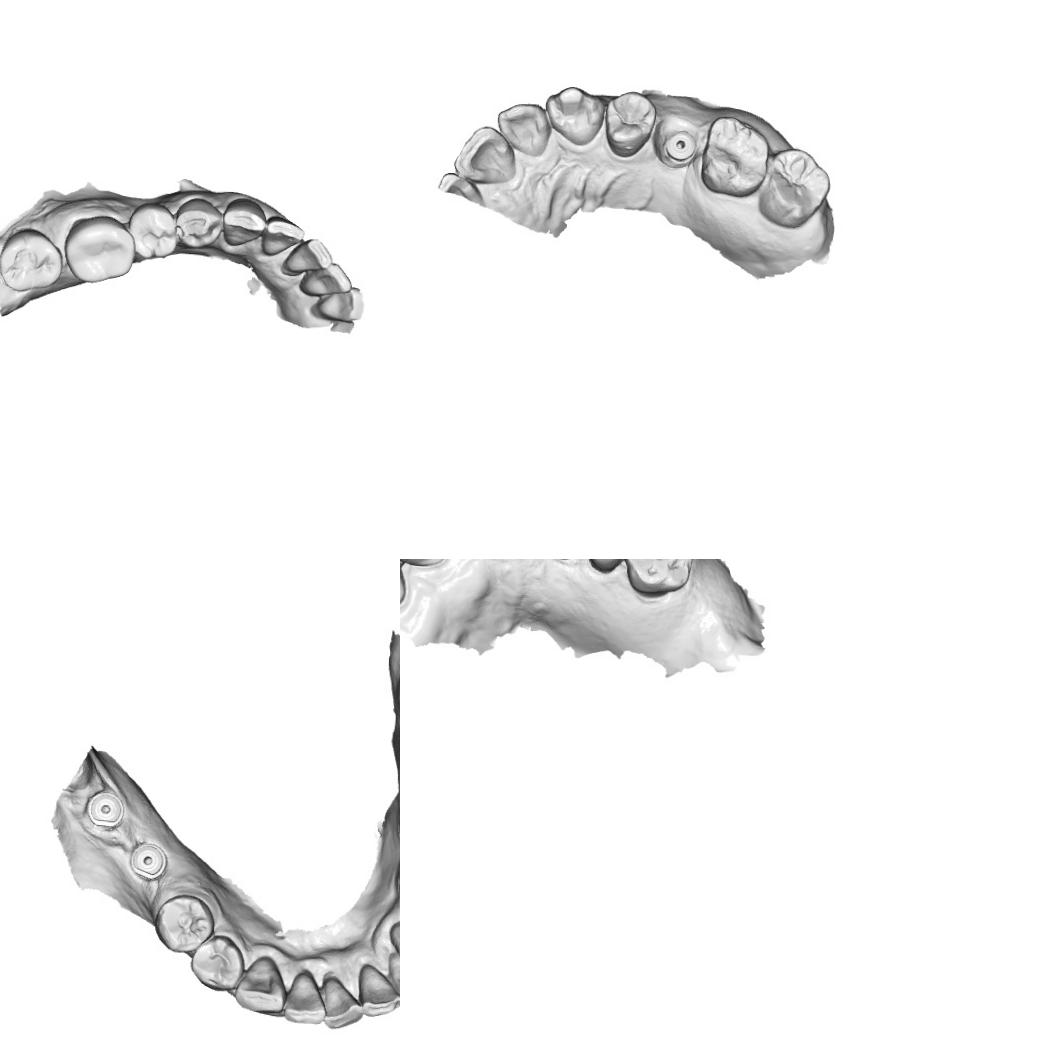canine: (543, 83, 604, 147), (231, 954, 284, 1016), (220, 196, 266, 249), (386, 917, 400, 977)
implant: (128, 841, 170, 882), (84, 786, 124, 829), (658, 128, 698, 170)
incisor: (452, 124, 518, 186), (496, 101, 554, 159), (317, 974, 364, 1032), (282, 968, 328, 1026), (356, 961, 400, 1019), (299, 260, 354, 298), (260, 214, 306, 258), (284, 236, 334, 276), (316, 285, 366, 324), (386, 954, 400, 1008)
molar: (757, 147, 832, 231), (700, 114, 769, 198), (63, 213, 137, 284), (0, 226, 65, 293), (625, 559, 698, 597)
premolar: (152, 892, 214, 956), (603, 90, 658, 161), (188, 933, 244, 993), (127, 201, 178, 260), (172, 196, 224, 250), (580, 559, 633, 575)
